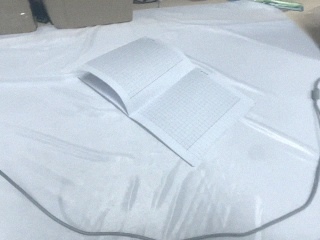box: (28, 1, 138, 33)
